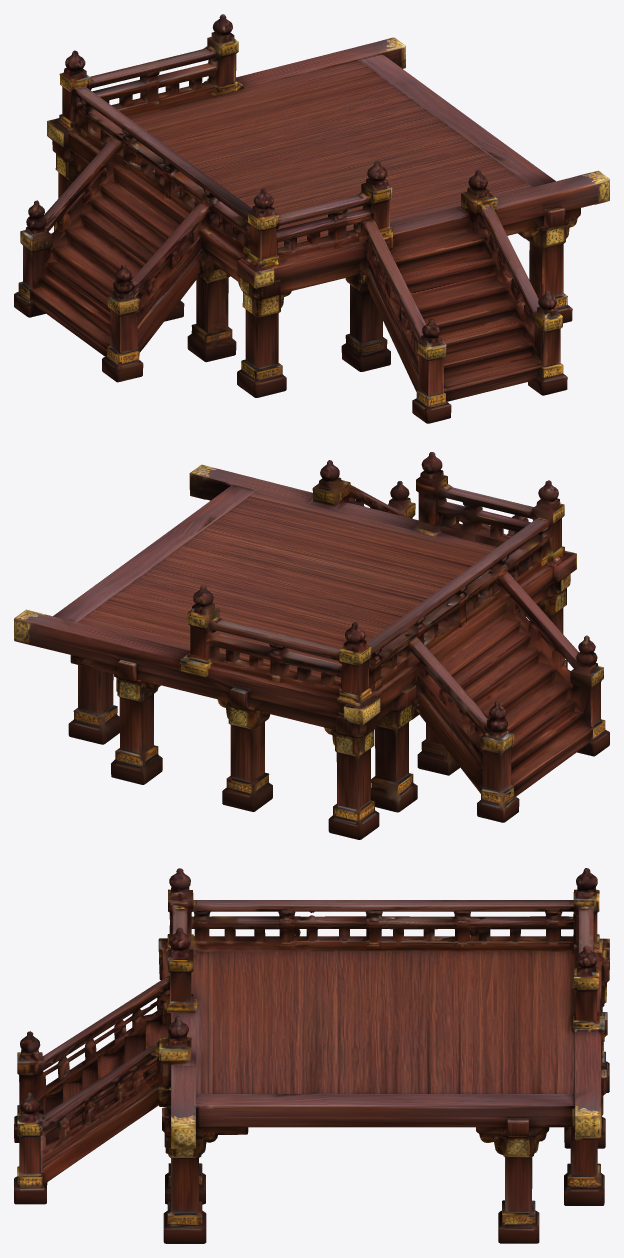
Rendered from SingleStareBase_LOD0.fbx.
3 renders of one model, top to bottom at view 1: azimuth 30°, elevation 25°; view 2: azimuth 150°, elevation 25°; view 3: azimuth 270°, elevation 25°, orthographic. The views are drawn at different scales.
Parts seen in each view (by area): view 1: SingleStareBase_LOD0; view 2: SingleStareBase_LOD0; view 3: SingleStareBase_LOD0.
Part boxes in pixels (bbox=[...]): SingleStareBase_LOD0: bbox=[14, 14, 609, 423]; SingleStareBase_LOD0: bbox=[14, 452, 609, 839]; SingleStareBase_LOD0: bbox=[14, 868, 609, 1243].
Bounding box in the file's own units: 7.75 × 3.34 × 8.3.
Materials: 1 (1 with a texture image).
